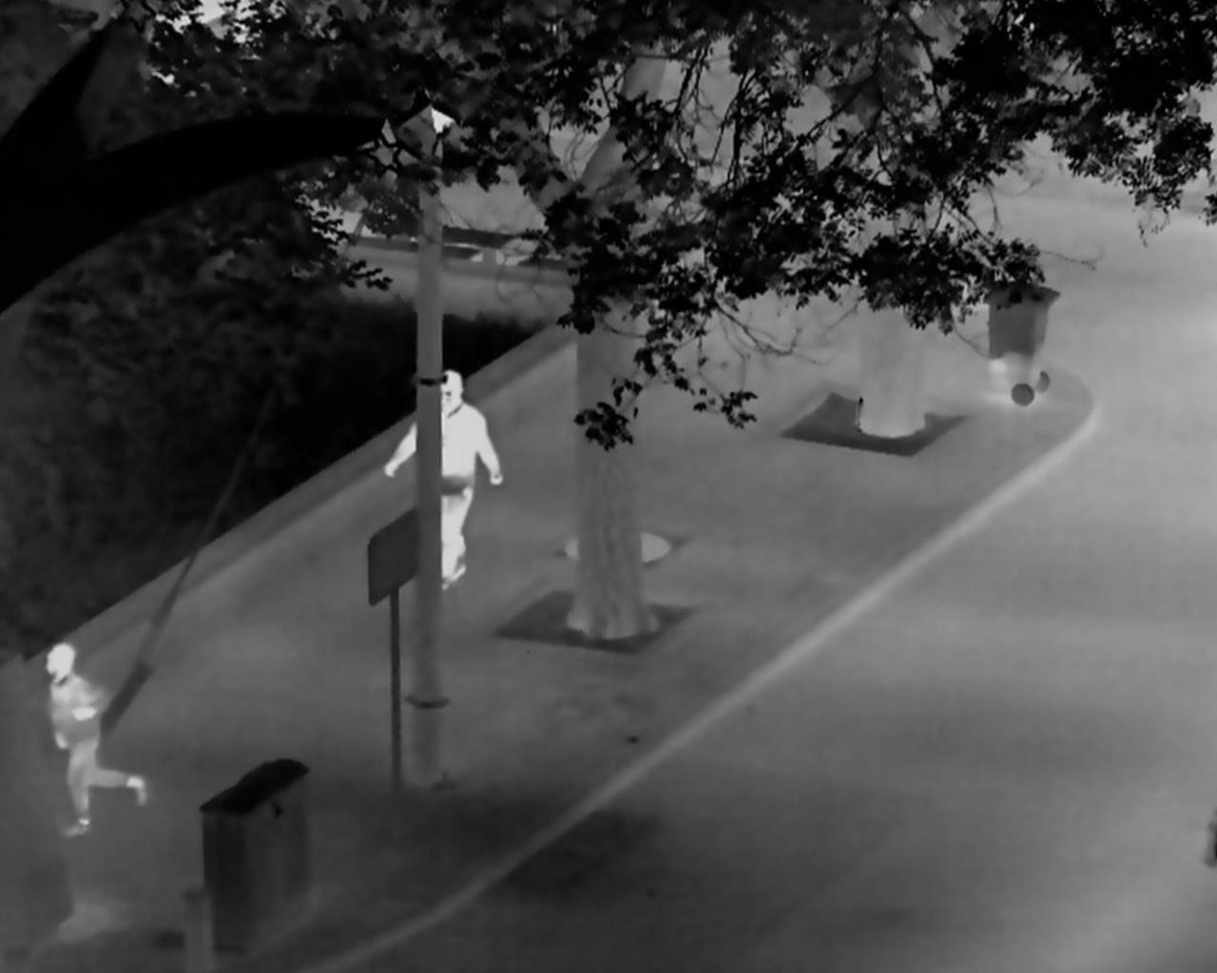person: (382, 368, 503, 588), (44, 641, 149, 837)
